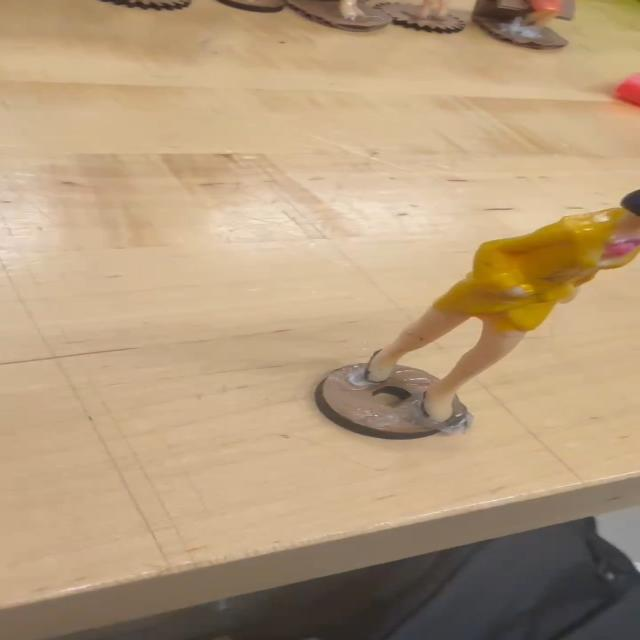Authorized: (343, 152, 640, 427)
